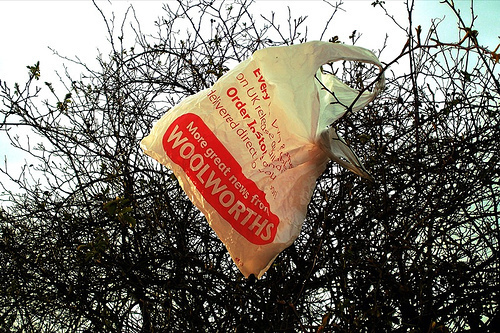litter: (135, 39, 384, 280)
